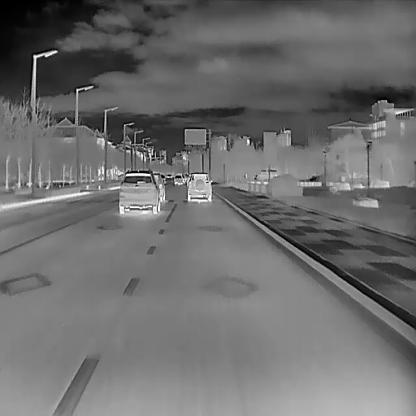car: (118, 168, 160, 213), (186, 172, 212, 200), (153, 171, 164, 200), (173, 172, 184, 184)
